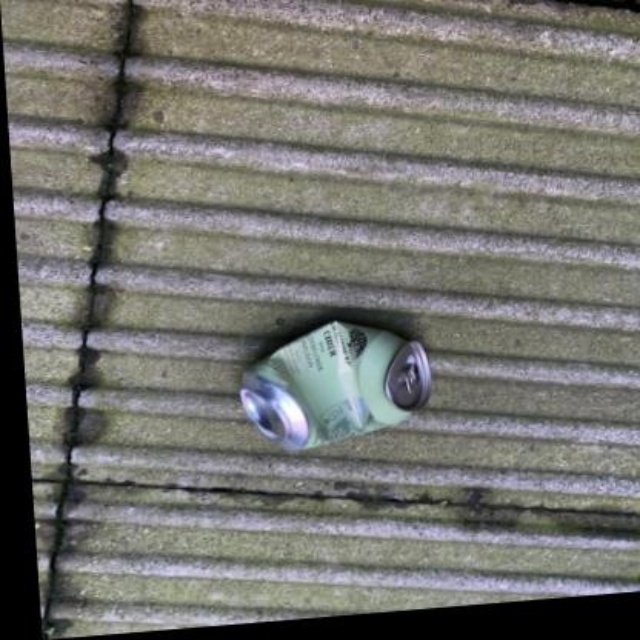trash: (240, 322, 431, 448)
